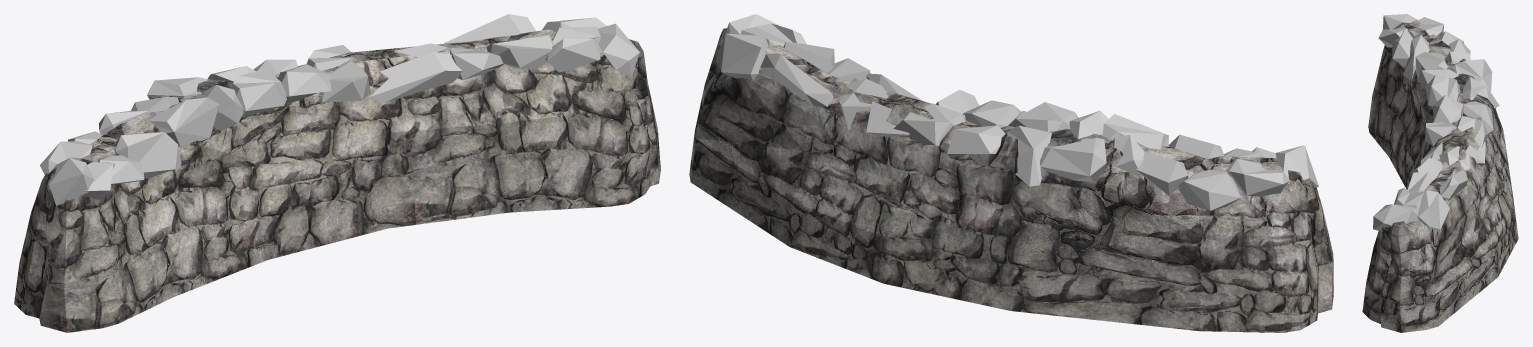
File: Wall_2_LOD2.fbx
3 renders of one model, left to right at view 1: azimuth 30°, elevation 25°; view 2: azimuth 150°, elevation 25°; view 3: azimuth 270°, elevation 25°, orthographic. The views are drawn at different scales.
Visible parts, largest first — view 1: Wall, Rock; view 2: Wall, Rock; view 3: Wall, Rock.
Boxes of the visible parts, <box> form: Wall: <box>14,29,660,332</box>; Rock: <box>40,14,639,205</box>; Wall: <box>689,28,1333,332</box>; Rock: <box>718,14,1318,210</box>; Wall: <box>1362,20,1518,332</box>; Rock: <box>1373,14,1499,231</box>.
Bounding box in the file's own units: 826 × 246 × 204.
